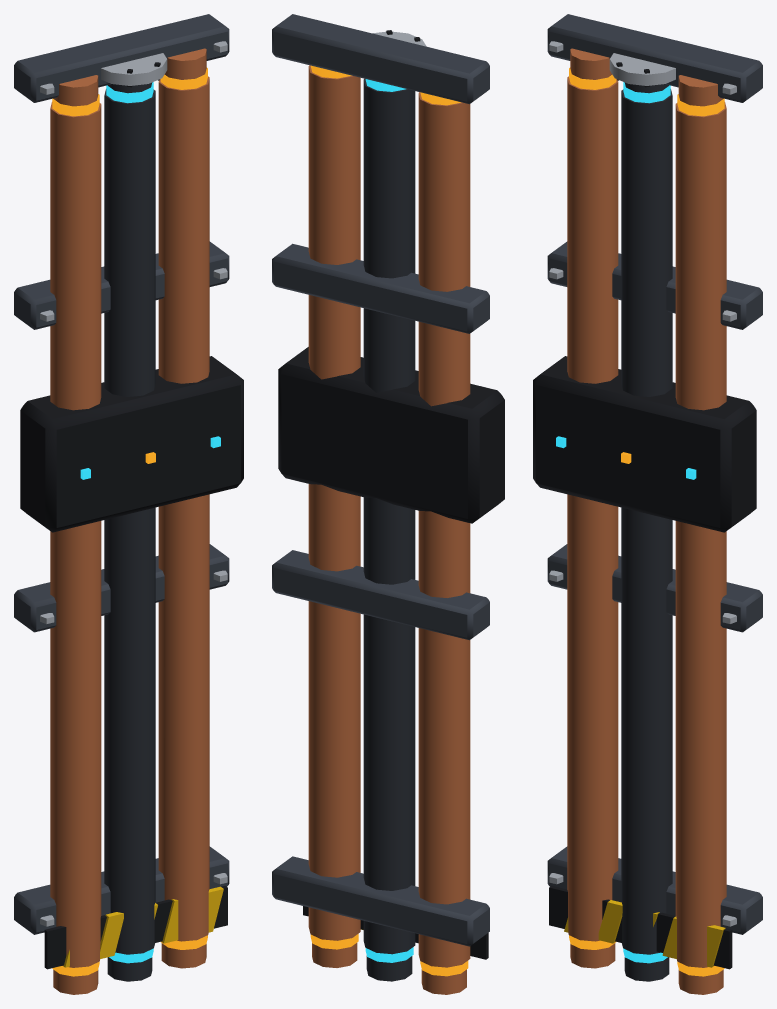
File: coil_eps_conduit_trunk.glb
The picture shows the model from 3 angles, left to right: view 1: azimuth 30°, elevation 25°; view 2: azimuth 150°, elevation 25°; view 3: azimuth 330°, elevation 25°; orthographic projection.
Parts seen in each view (by area): view 1: coil_eps_conduit_trunk; view 2: coil_eps_conduit_trunk; view 3: coil_eps_conduit_trunk.
Boxes of the visible parts, x1,y1,x2,y2 form: coil_eps_conduit_trunk: (14,14,243,994); coil_eps_conduit_trunk: (272,14,504,994); coil_eps_conduit_trunk: (533,14,762,994).
Bounding box in the file's own units: 0.55 × 2.44 × 0.196.
